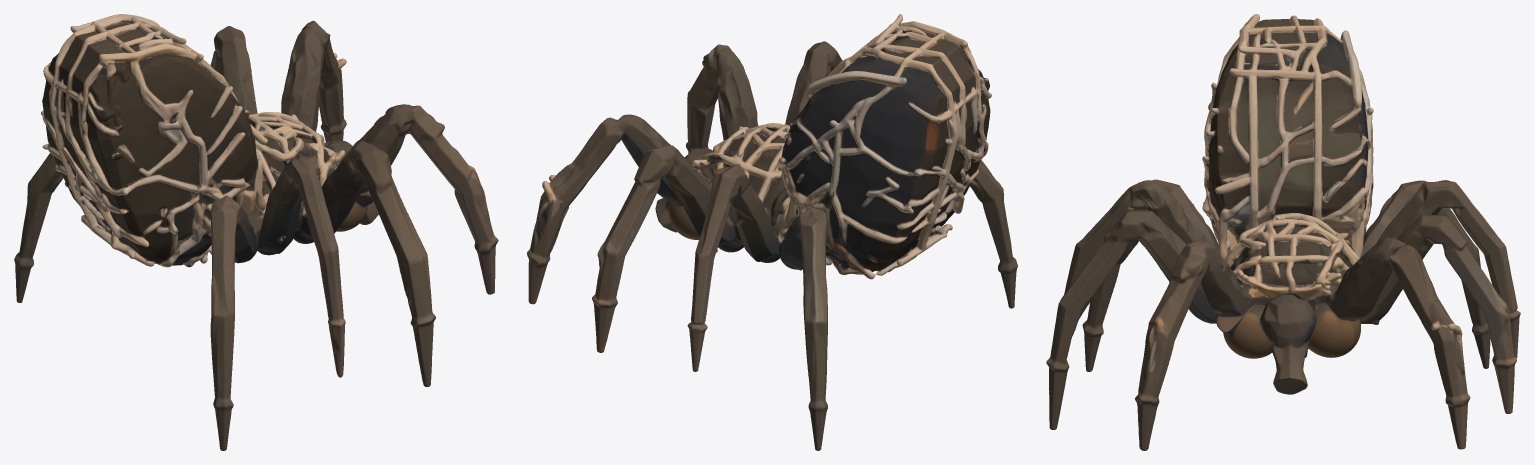
File: landmark_nest.glb
3 views of the same model, side by side, from view 1: azimuth 30°, elevation 25°; view 2: azimuth 150°, elevation 25°; view 3: azimuth 270°, elevation 25° (orthographic). The views are drawn at different scales.
Parts seen in each view (by area): view 1: tripo_node_809c4447-e7a3-4232-a5f7-f3b2b39e606c; view 2: tripo_node_809c4447-e7a3-4232-a5f7-f3b2b39e606c; view 3: tripo_node_809c4447-e7a3-4232-a5f7-f3b2b39e606c.
Part boxes in pixels (bbox=[...]): tripo_node_809c4447-e7a3-4232-a5f7-f3b2b39e606c: bbox=[14, 14, 498, 450]; tripo_node_809c4447-e7a3-4232-a5f7-f3b2b39e606c: bbox=[527, 14, 1017, 450]; tripo_node_809c4447-e7a3-4232-a5f7-f3b2b39e606c: bbox=[1046, 14, 1520, 450].
Bounding box in the file's own units: 0.8818 × 0.7986 × 1.
Materials: 1 (1 with a texture image).
